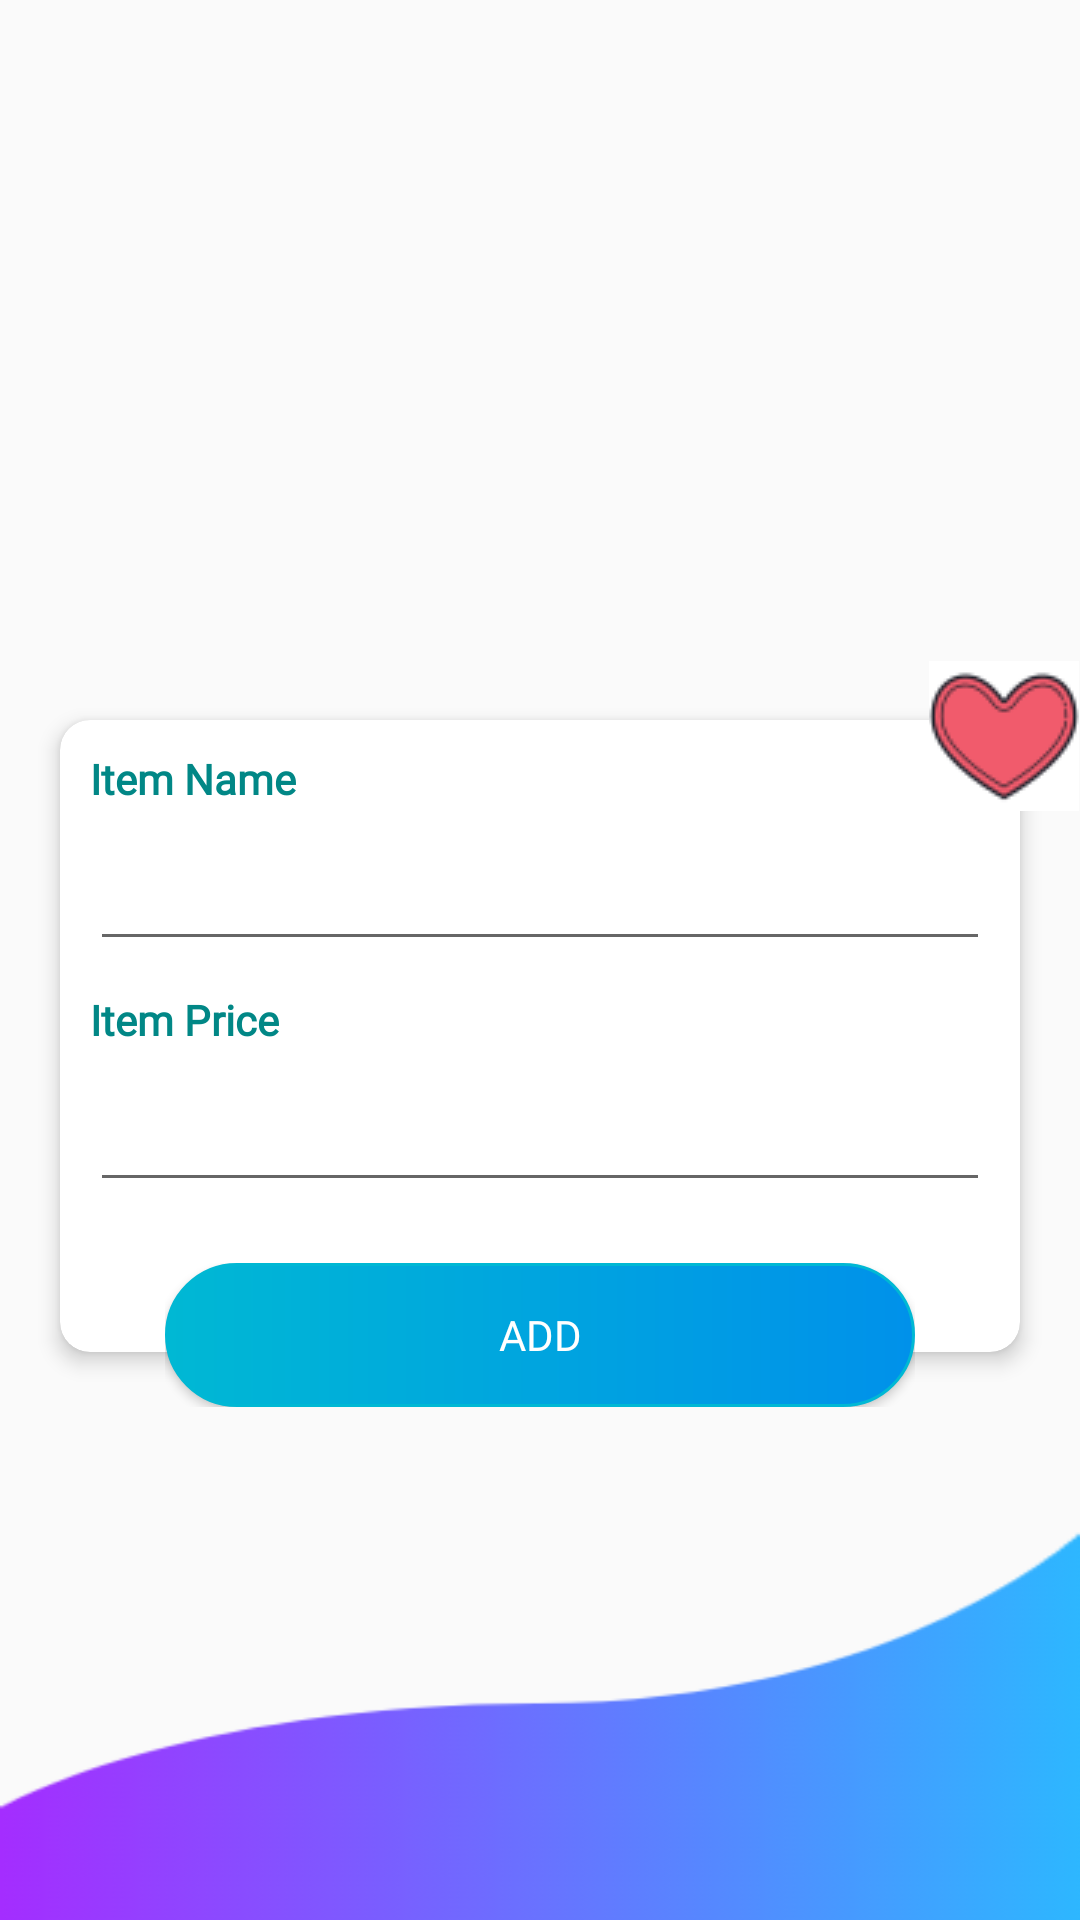

Icons on this 1080px x 1920px Android screen, each with the point to tap as point (x, y):
add wishlist: point (1004, 736)
